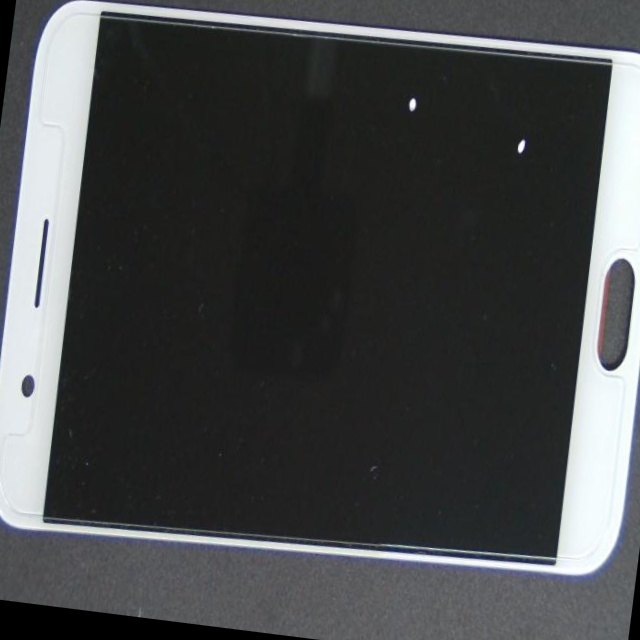stain: (268, 0, 640, 241), (216, 0, 622, 179)
